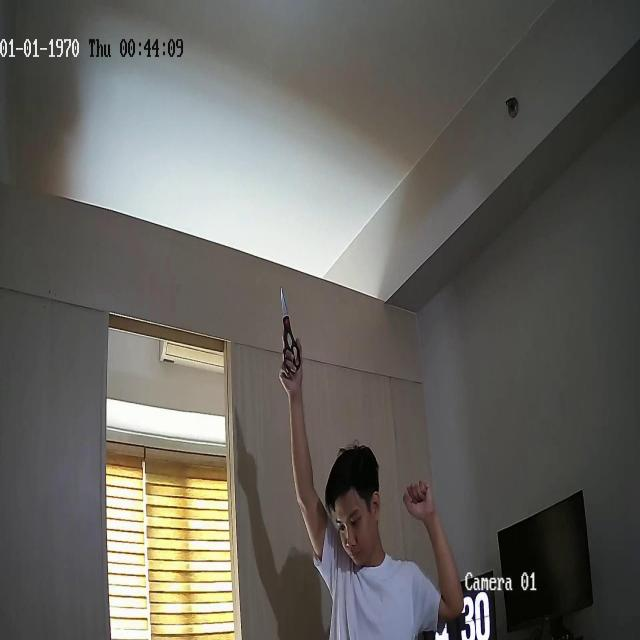scissor: (280, 287, 301, 369)
